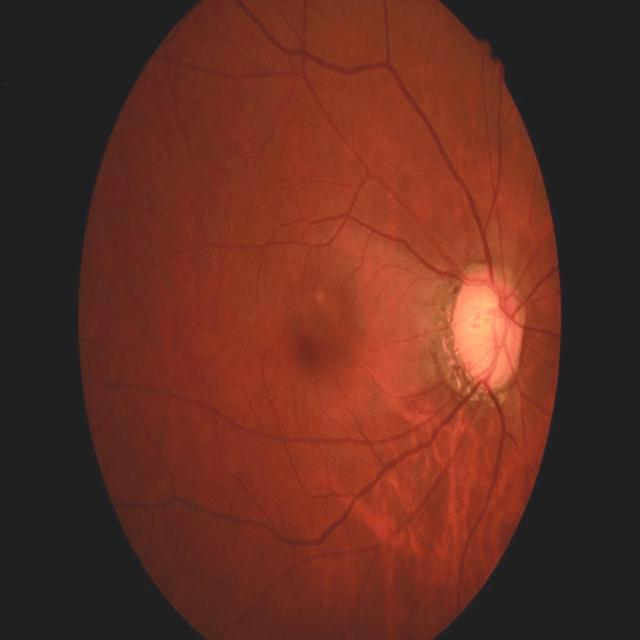cup: (459, 286, 514, 378)
disk: (453, 264, 527, 388)
